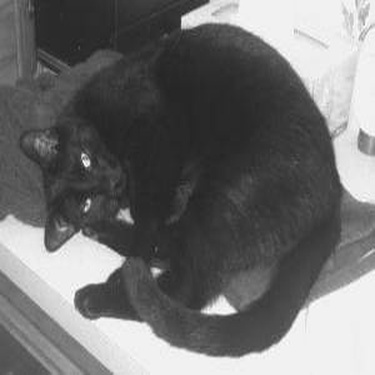cat: (13, 1, 359, 358)
